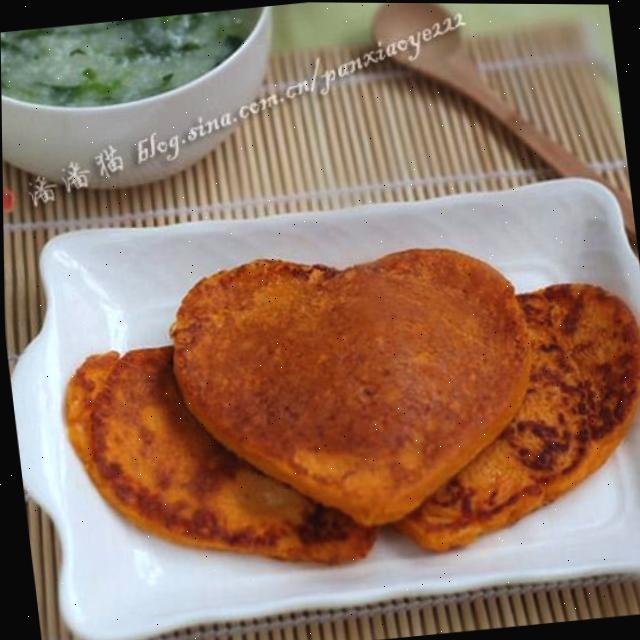炸货点心: (11, 145, 640, 640)
蛋糕甜品: (11, 145, 640, 640)
